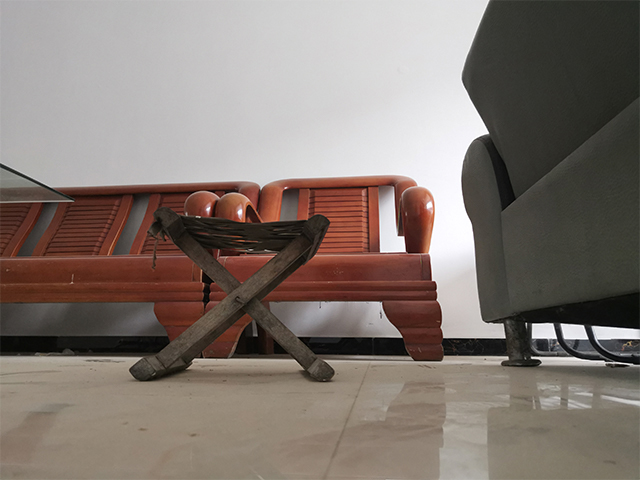sofa: (459, 1, 640, 369)
stool: (214, 174, 446, 363), (2, 177, 233, 366), (128, 203, 338, 384)
